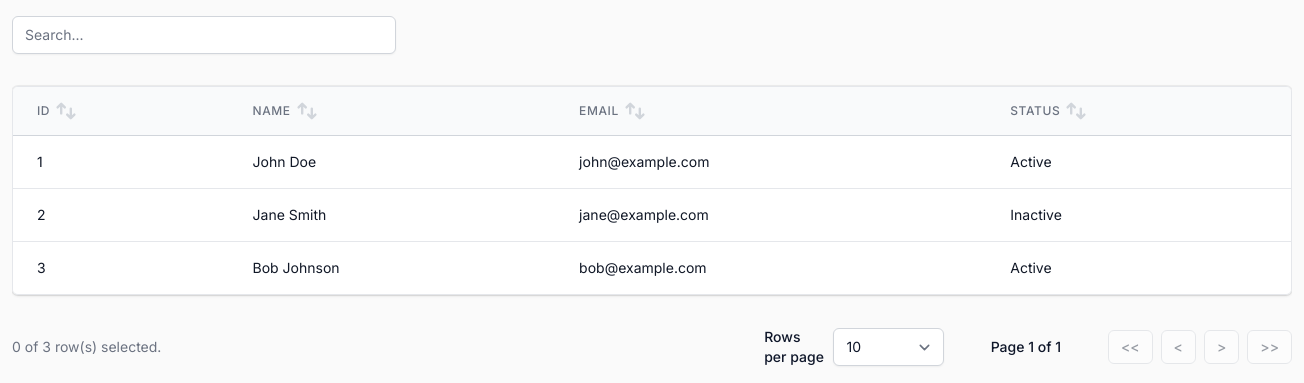
it: DataTable Component › handles empty search results
# Search for something that doesn't exist
Step 1. Type "nonexistent" into the field with placeholder "Search..." → (204, 35), box [12,16,396,54]
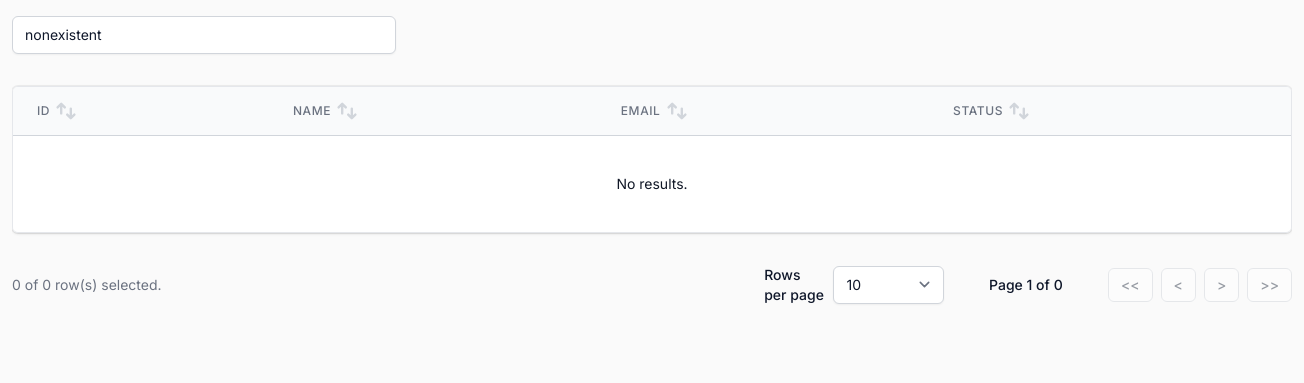
Check: the text "No results." is shown, box [13,136,1291,232]
